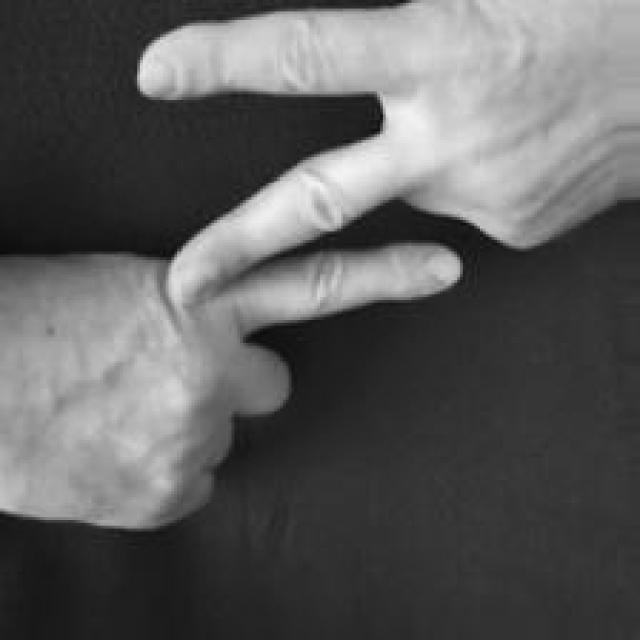Z: (1, 1, 640, 536)
